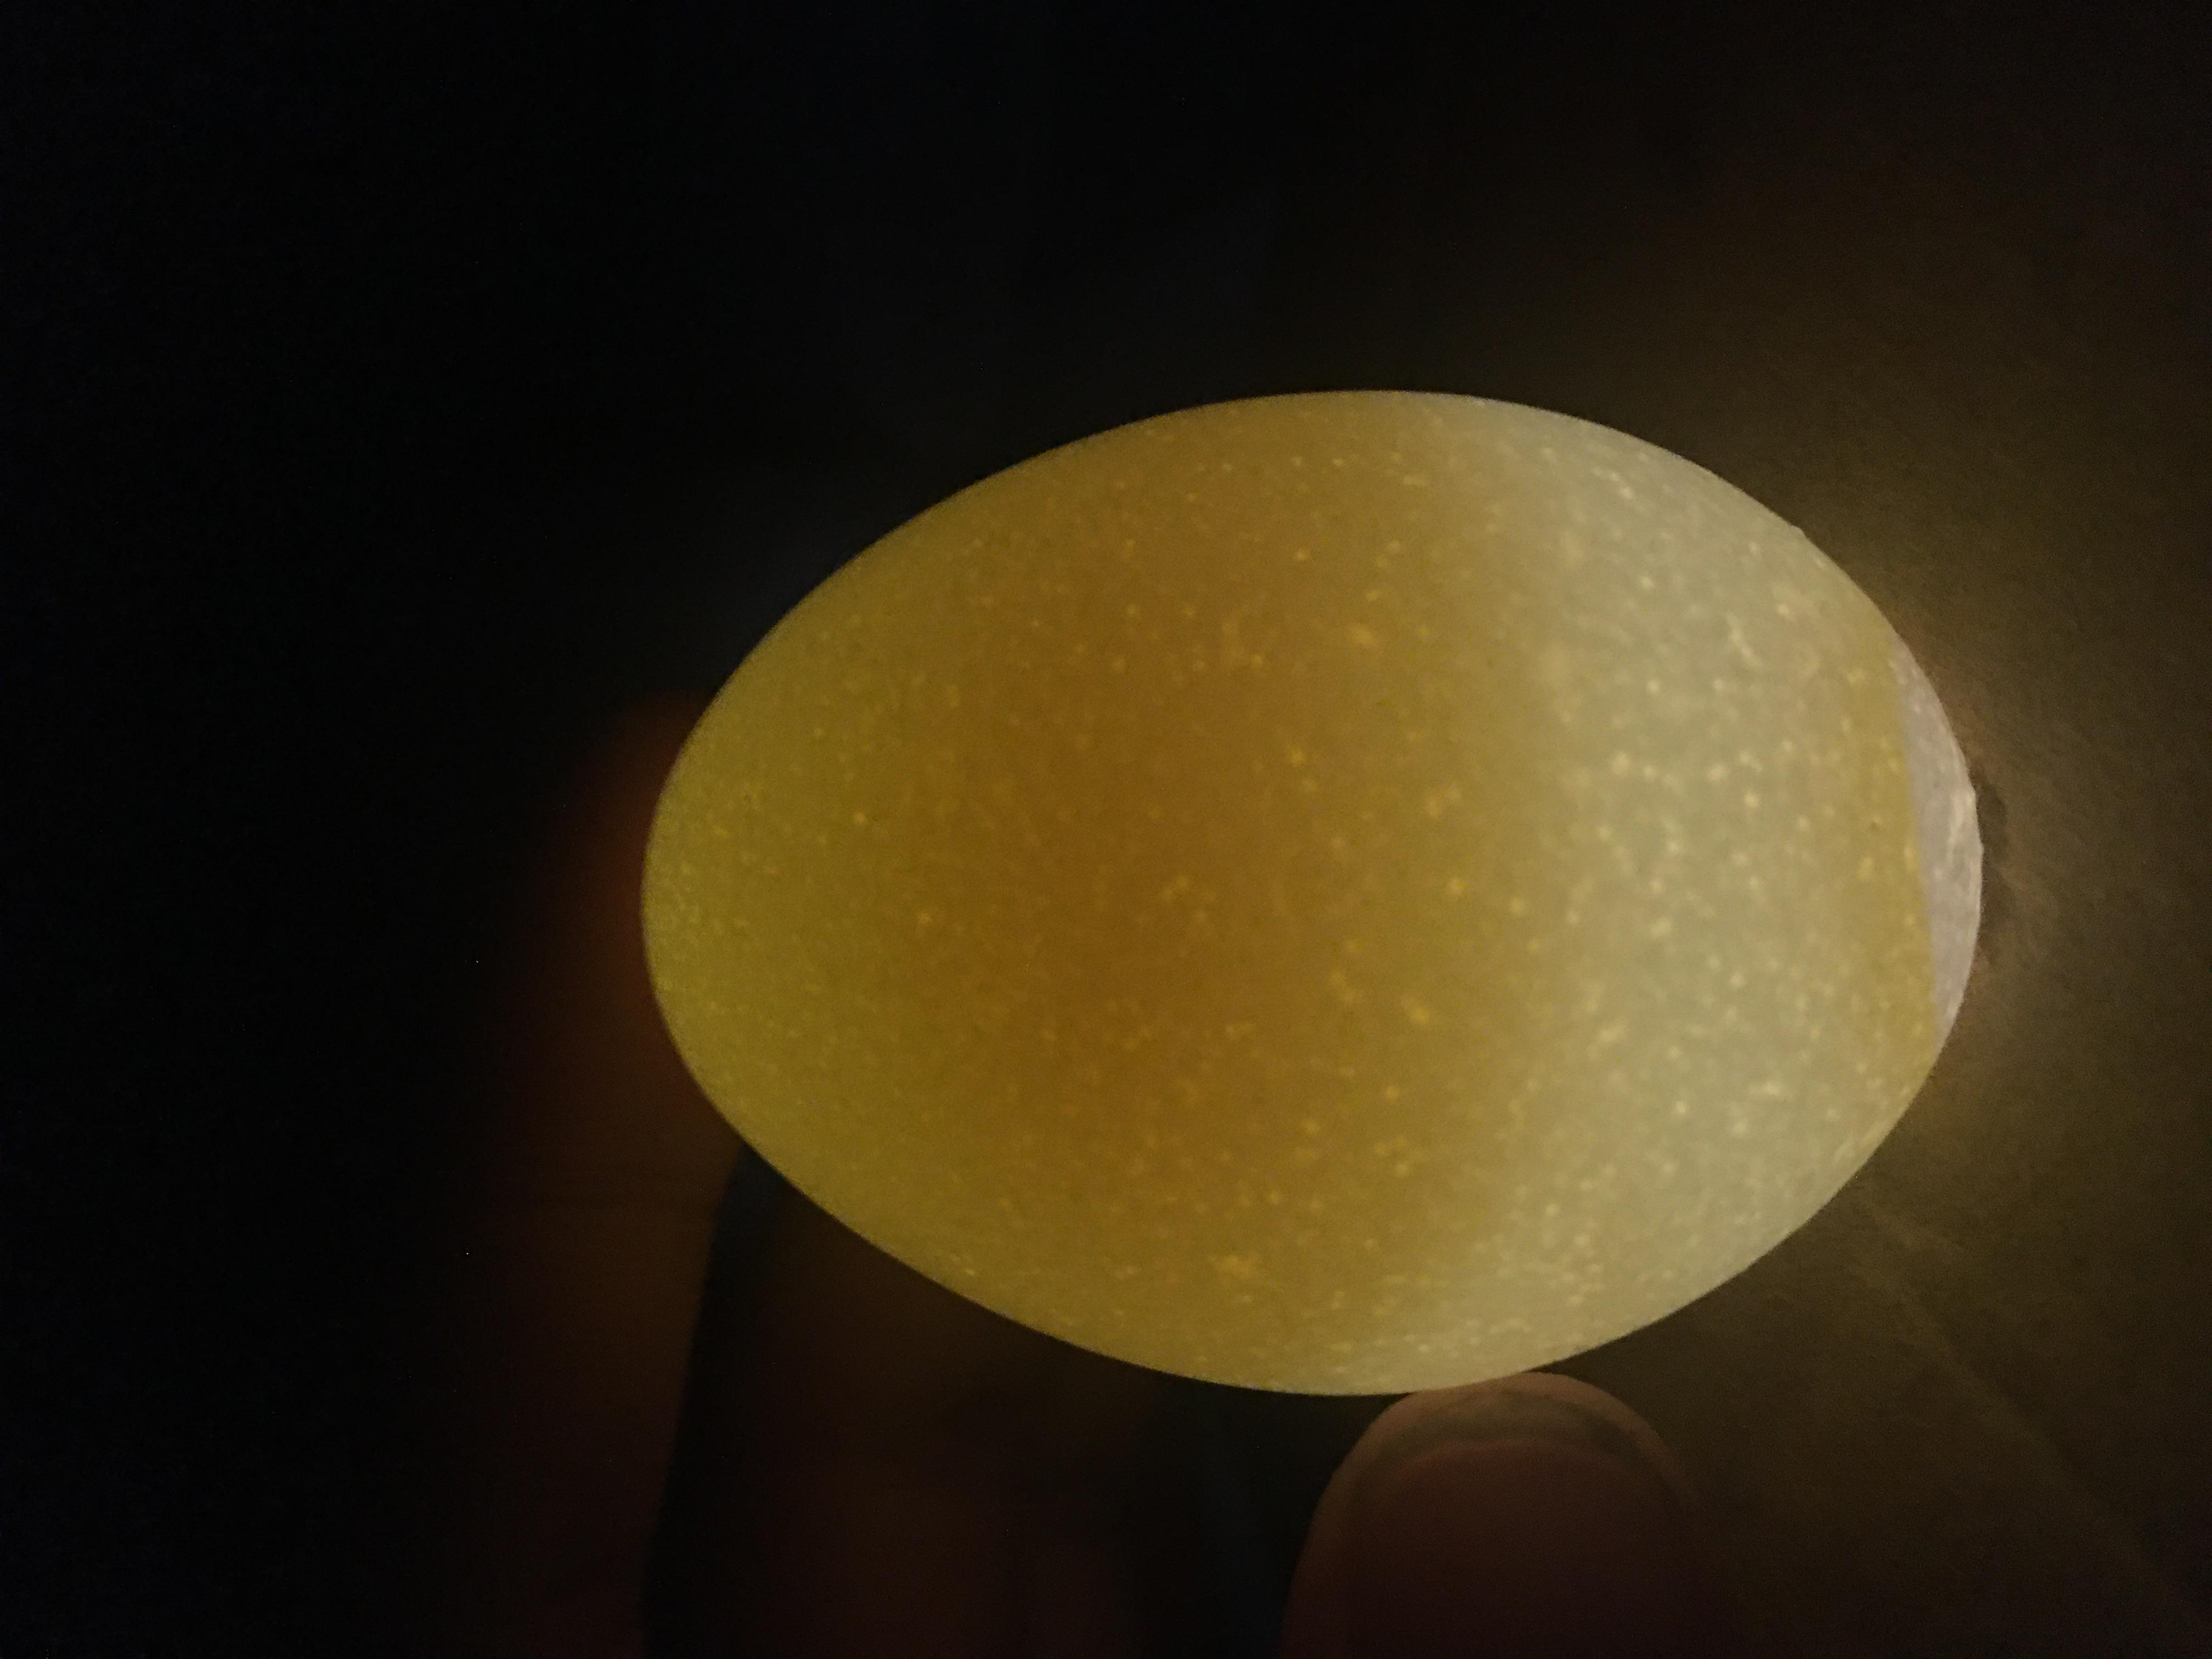A - Good: (319, 448, 1730, 1516)
